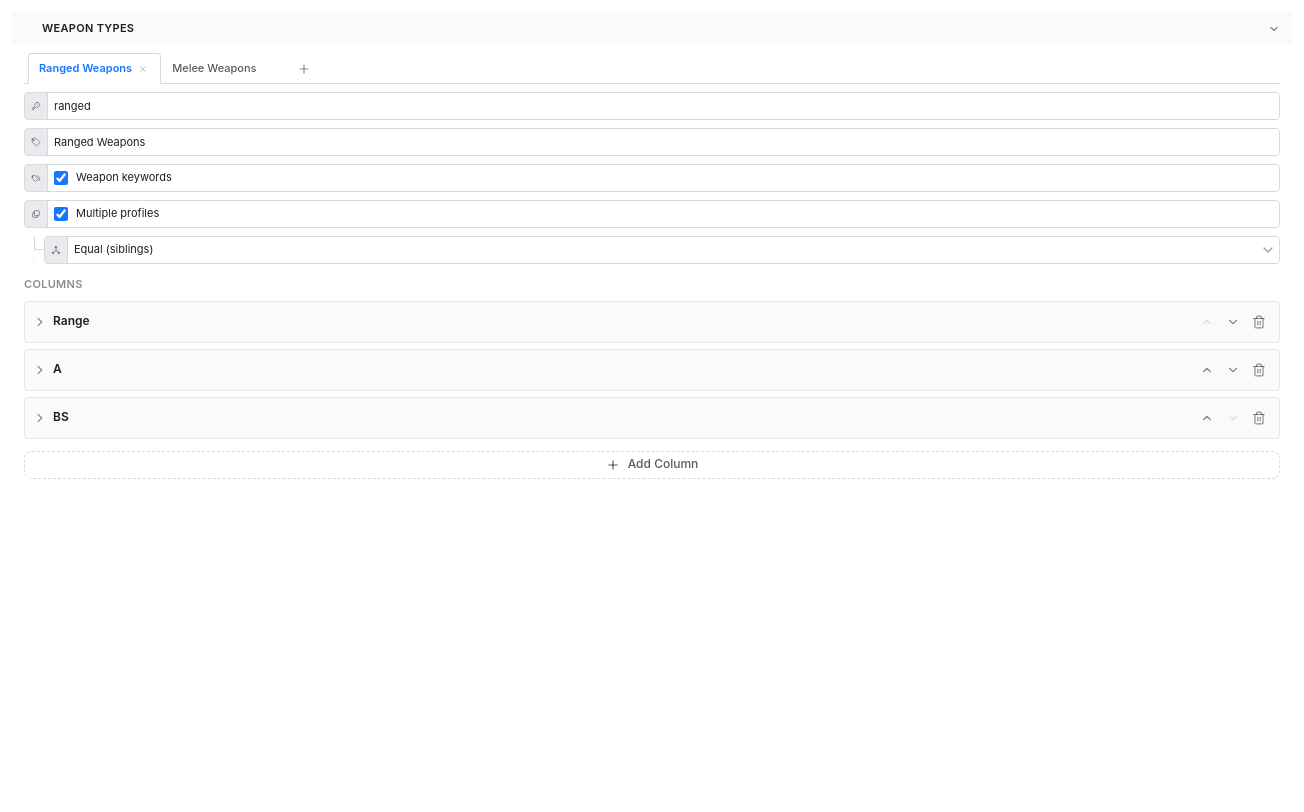
WeaponsSchemaEditor › shows columns of the active weapon type
Step 1. Click the button "Range" → (71, 321), box [33,310,1189,333]
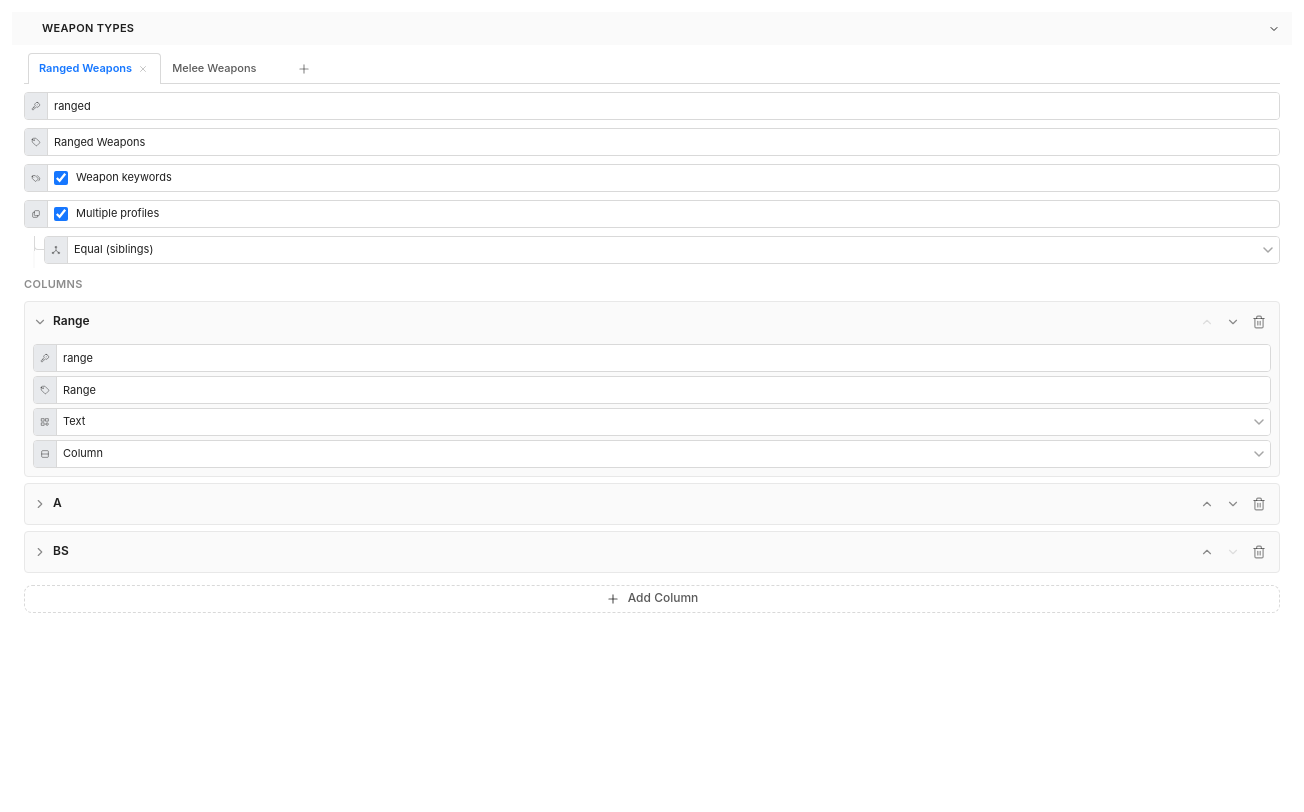
Step 2. Click the button "BS" → (40, 552), box [33,540,1189,563]
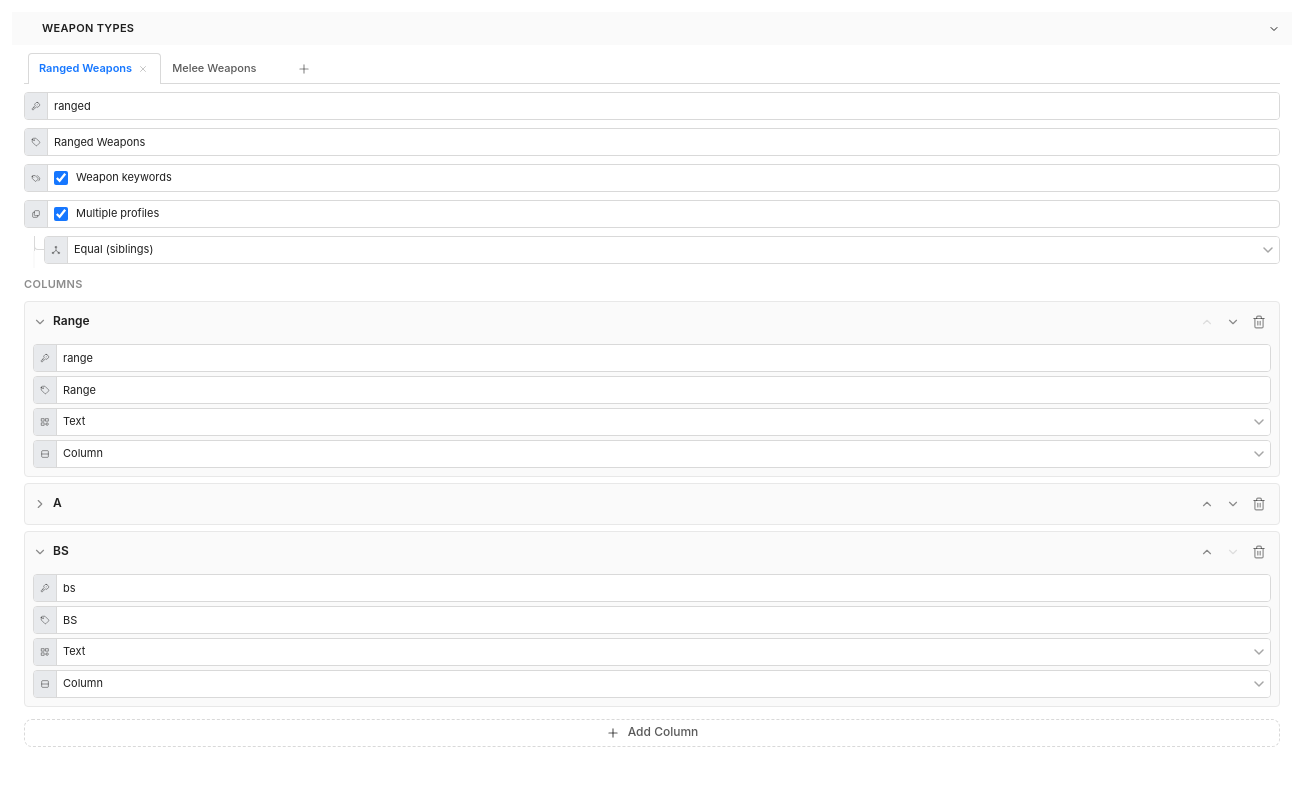
Check: the 2nd field showing "Range" is shown, box [57,377,1270,403]
Check: the 3rd field showing "BS" is shown, box [57,607,1270,633]
